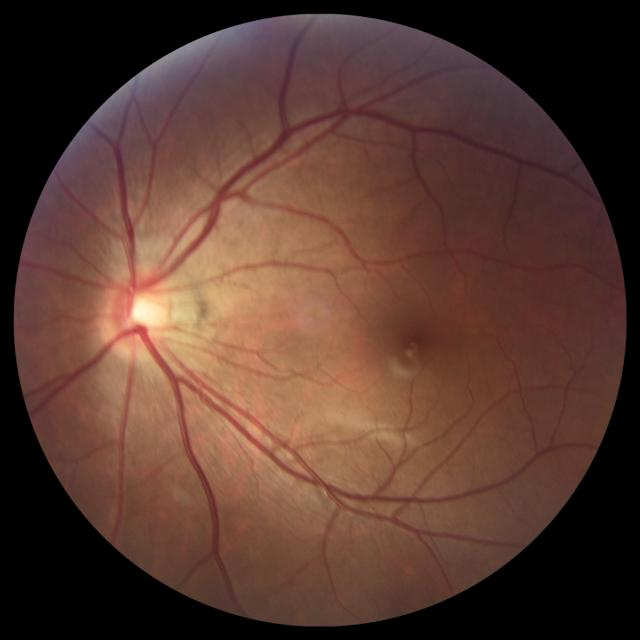OC: (125, 291, 158, 328)
OD: (99, 266, 173, 358)
